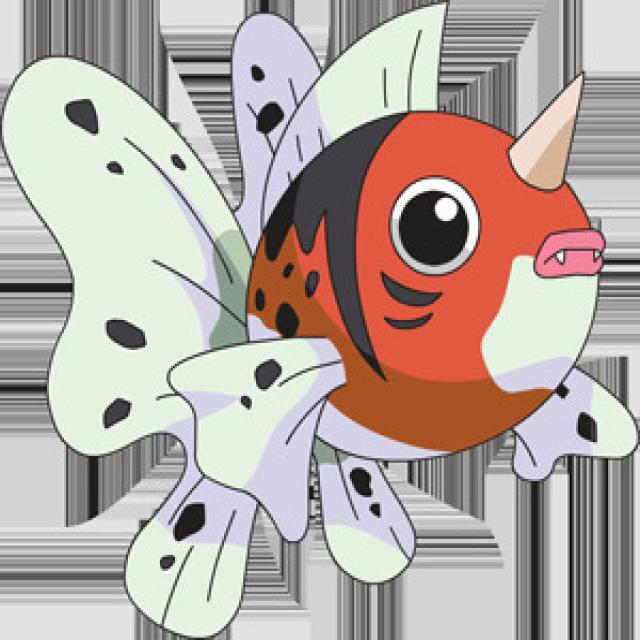Seaking: (145, 78, 610, 533)
